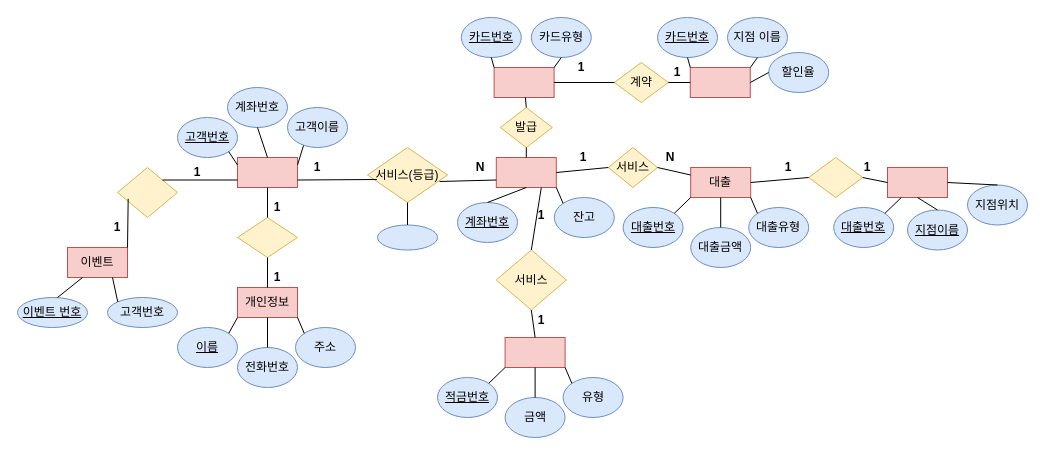
The diagram is 1045 pixels wide and 455 high, and some of its shapes have lost their labels. Here are the shapes that lost their labels. From the top down, the centre of each, then its label:
pixel 523 82: 카드
pixel 719 82: 가맹점
pixel 147 192: 참여
pixel 267 172: 고객
pixel 525 172: 계좌
pixel 835 177: 이용
pixel 917 182: 지점
pixel 267 237: 소유
pixel 407 237: 등급
pixel 534 352: 적금
